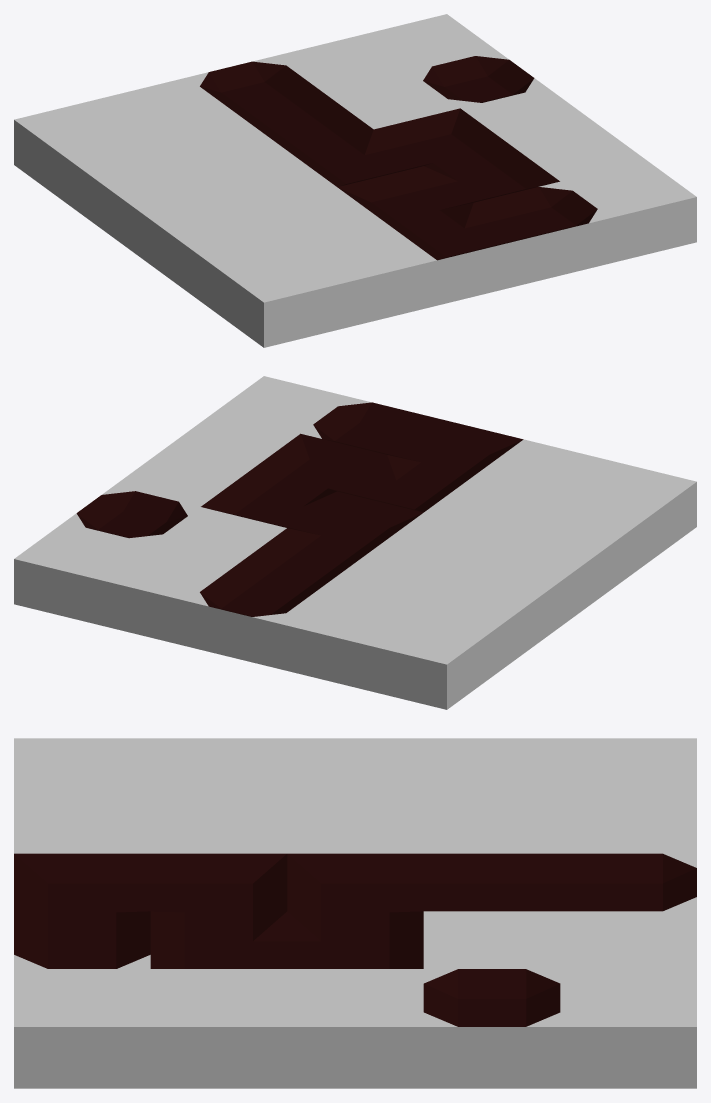
The picture shows the model from 3 angles, top to bottom: view 1: azimuth 30°, elevation 25°; view 2: azimuth 150°, elevation 25°; view 3: azimuth 270°, elevation 25°; orthographic projection. The views are drawn at different scales.
Visible parts, largest first — view 1: block.0.0_block.11969, ending.3.0_ending.1410, block.1.0_block.11974, block.4.0_block.11981, corner.2.0_corner.3542, block.0.2_block.11971, block.0.3_block.11972, block.0.4_block.11973, block.0.1_block.11970, corner.3.2_corner.3546, ending.2.4_ending.1409, corner.2.1_corner.3543 (+13 smaller); view 2: block.0.4_block.11973, block.3.4_block.11980, block.1.4_block.11978, block.4.4_block.11985, ending.2.4_ending.1409, block.0.0_block.11969, block.0.1_block.11970, block.0.2_block.11971, block.0.3_block.11972, corner.3.1_corner.3545, ending.3.0_ending.1410, corner.2.2_corner.3544 (+13 smaller); view 3: block.4.1_block.11982, block.4.3_Cube.025, block.4.0_block.11981, block.4.2_block.11983, block.4.4_block.11985, corner.2.1_corner.3543, corner.2.0_corner.3542, corner.2.2_corner.3544, through.2.3_through.684, ending.2.4_ending.1409, block.0.1_block.11970, block.0.3_block.11972 (+13 smaller).
Part boxes in pixels (bbox=[...]): block.0.0_block.11969: bbox=[214, 245, 350, 347]; ending.3.0_ending.1410: bbox=[474, 181, 610, 284]; block.1.0_block.11974: bbox=[301, 224, 437, 326]; block.4.0_block.11981: bbox=[560, 160, 696, 263]; corner.2.0_corner.3542: bbox=[388, 203, 523, 305]; block.0.2_block.11971: bbox=[114, 172, 249, 274]; block.0.3_block.11972: bbox=[64, 135, 200, 237]; block.0.4_block.11973: bbox=[14, 98, 149, 201]; block.0.1_block.11970: bbox=[164, 208, 299, 310]; corner.3.2_corner.3546: bbox=[374, 108, 509, 171]; ending.2.4_ending.1409: bbox=[187, 56, 323, 119]; corner.2.1_corner.3543: bbox=[337, 166, 473, 229]; block.0.4_block.11973: bbox=[360, 607, 496, 709]; block.3.4_block.11980: bbox=[100, 543, 236, 646]; block.1.4_block.11978: bbox=[273, 586, 409, 688]; block.4.4_block.11985: bbox=[14, 522, 150, 625]; ending.2.4_ending.1409: bbox=[187, 565, 322, 667]; block.0.0_block.11969: bbox=[561, 460, 696, 563]; block.0.1_block.11970: bbox=[510, 497, 646, 599]; block.0.2_block.11971: bbox=[461, 534, 596, 636]; block.0.3_block.11972: bbox=[411, 570, 546, 672]; corner.3.1_corner.3545: bbox=[251, 433, 386, 497]; ending.3.0_ending.1410: bbox=[301, 397, 436, 456]; corner.2.2_corner.3544: bbox=[287, 491, 423, 554]; block.4.1_block.11982: bbox=[150, 969, 287, 1088]; block.4.3_Cube.025: bbox=[423, 969, 560, 1088]; block.4.0_block.11981: bbox=[14, 969, 150, 1088]; block.4.2_block.11983: bbox=[287, 969, 423, 1088]; block.4.4_block.11985: bbox=[560, 969, 696, 1088]; corner.2.1_corner.3543: bbox=[150, 853, 287, 926]; corner.2.0_corner.3542: bbox=[14, 853, 150, 926]; corner.2.2_corner.3544: bbox=[287, 853, 423, 926]; through.2.3_through.684: bbox=[423, 853, 560, 911]; ending.2.4_ending.1409: bbox=[560, 853, 696, 911]; block.0.1_block.11970: bbox=[150, 738, 287, 795]; block.0.3_block.11972: bbox=[423, 738, 560, 795].
Bounding box in the file's own units: 10 × 1 × 10.
